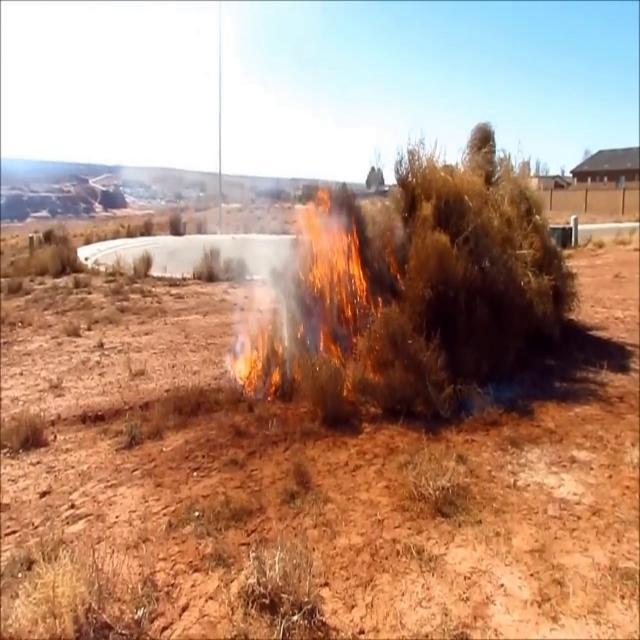Fire: (294, 168, 371, 340), (223, 311, 282, 395)
